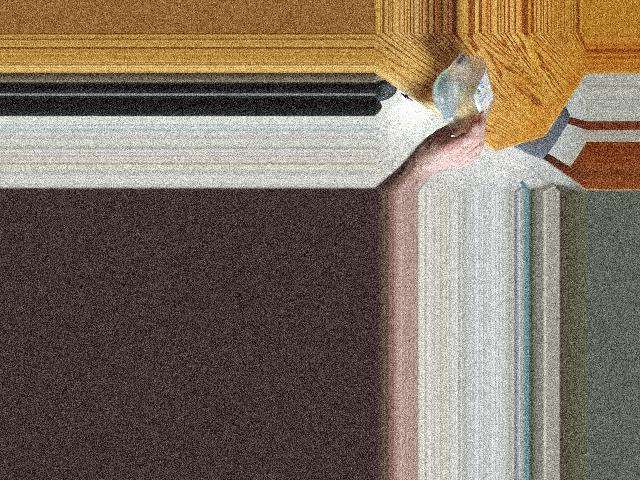cheese: (440, 58, 491, 149)
